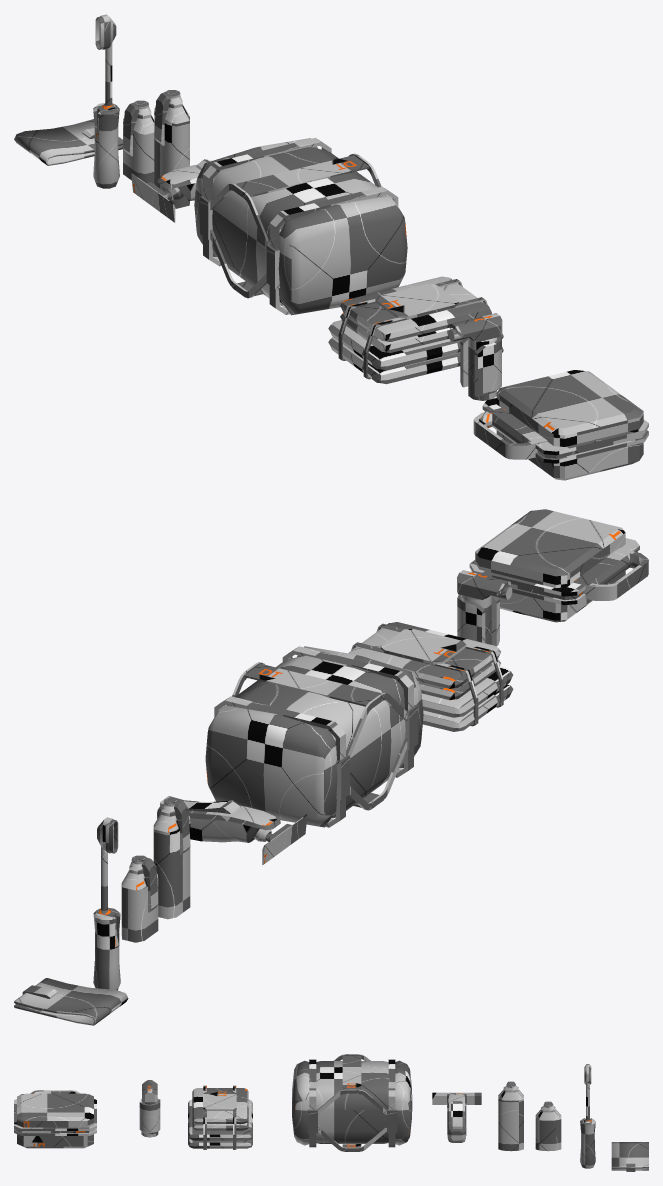
Rendered from Pack_07_Gameready.FBX.
The picture shows the model from 3 angles, top to bottom: view 1: azimuth 30°, elevation 25°; view 2: azimuth 150°, elevation 25°; view 3: azimuth 270°, elevation 25°; orthographic projection. The views are drawn at different scales.
Parts seen in each view (by area): view 1: x, Plane007; view 2: x, Plane007; view 3: x, Plane007.
Part boxes in pixels (<box>): x: <box>14,14,503,400</box>; Plane007: <box>473,370,648,480</box>; x: <box>14,570,513,1025</box>; Plane007: <box>469,509,648,622</box>; x: <box>139,1054,648,1171</box>; Plane007: <box>14,1090,96,1148</box>.
Size of the model in its own units: 9502 by 11515 by 66273.
